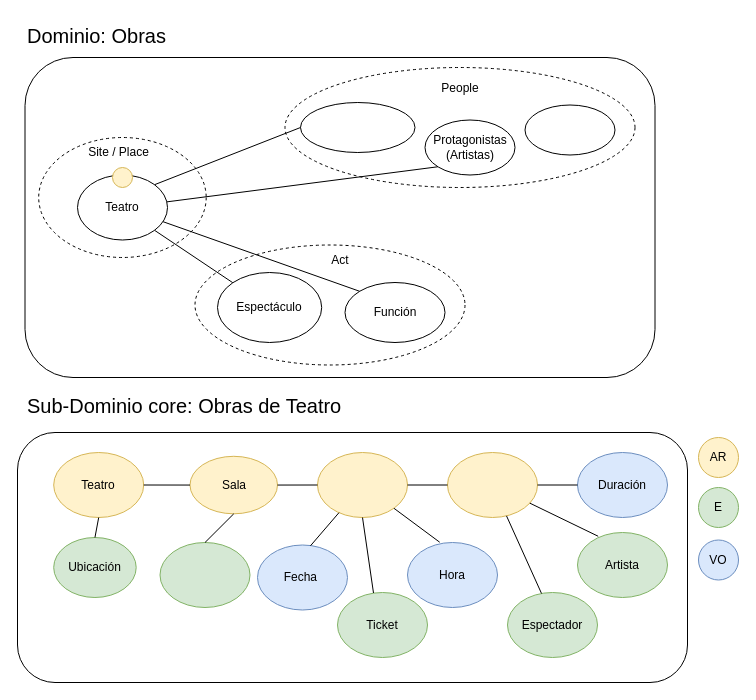
This 756x700 diagram has some shape labels left out. Here are the shapes that lost their labels. From the top down, the centre of each, then its label:
point 357,127: Invitados (Espectadores)
point 569,129: Personal de Limpieza
point 362,485: Funcion
point 492,485: Espectaculo
point 204,575: Asientos
